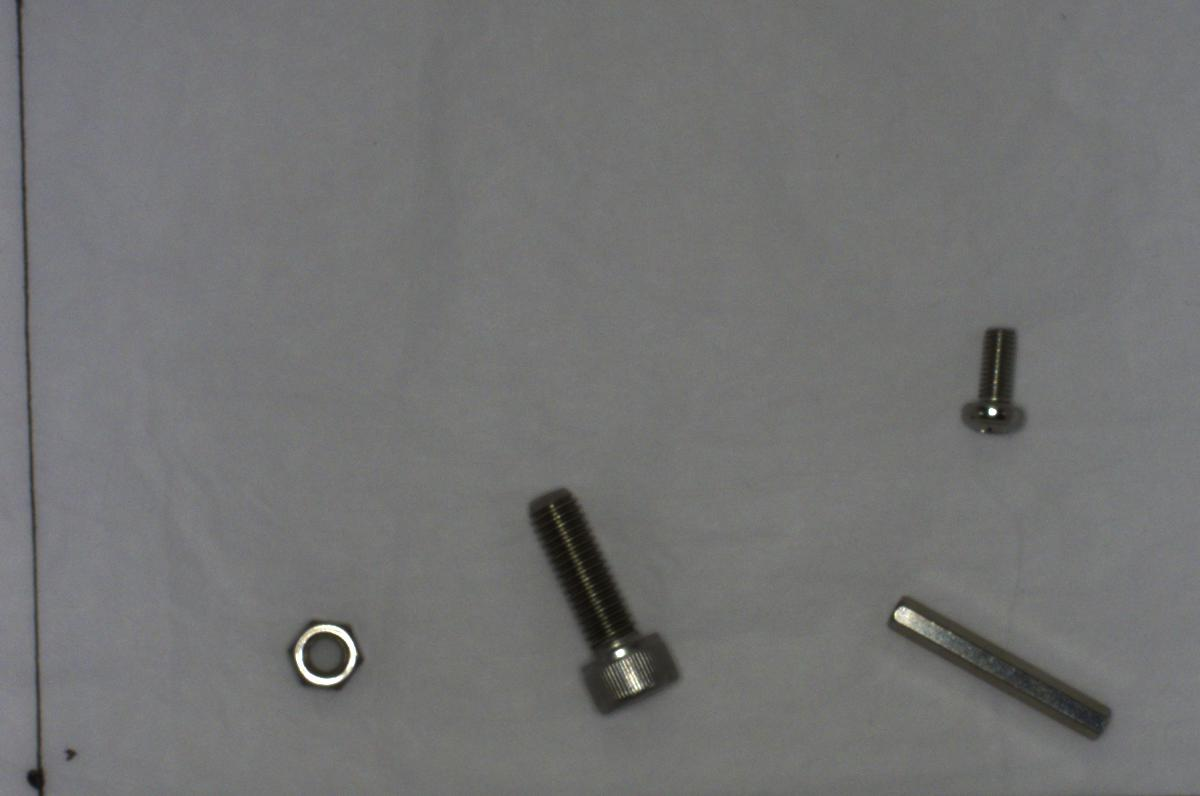Double hexagonal column: (880, 582, 1121, 747)
Hexagon nut: (277, 609, 366, 695)
Hexagon screw: (517, 474, 687, 718)
Round head screw: (955, 315, 1028, 447)
